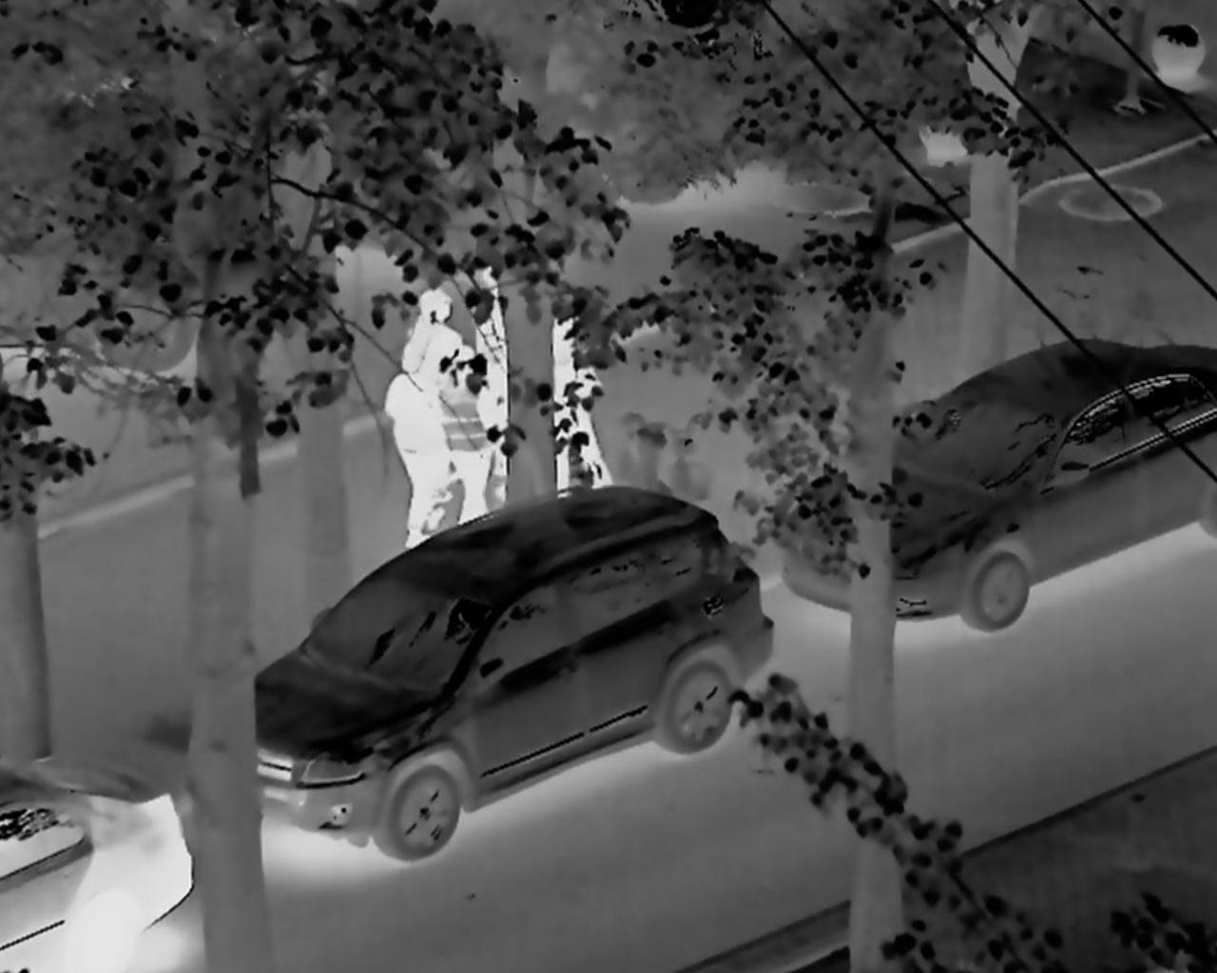person: (401, 274, 466, 478), (377, 333, 442, 526), (464, 275, 524, 483), (435, 352, 508, 511), (548, 315, 610, 491)
